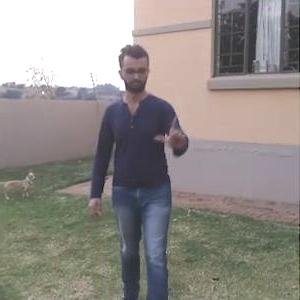land_hand: (153, 109, 192, 153)
